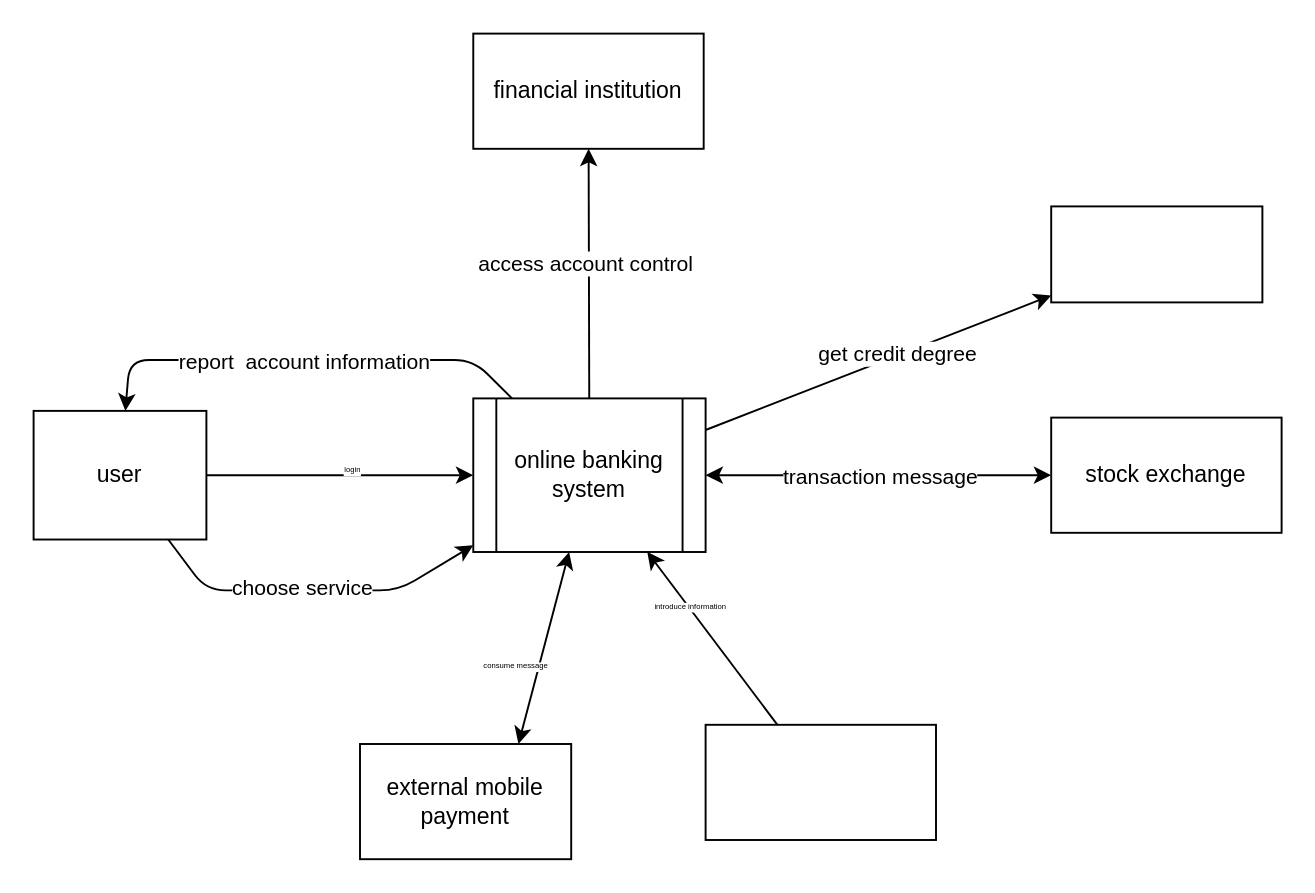
Some shapes in this 1315 by 893 pixel diagram are drawn without their labels. The shapes that lost their labels are listed below. From the top down, each one's centre as x and y in pixels, then its label:
At (x=1155, y=253): "national credit center".
At (x=820, y=781): "electronic invoice device".
